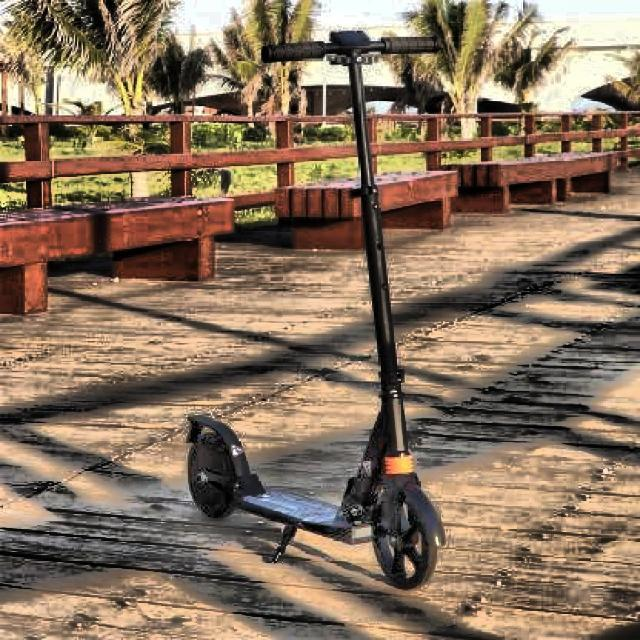bike: (183, 32, 449, 592)
